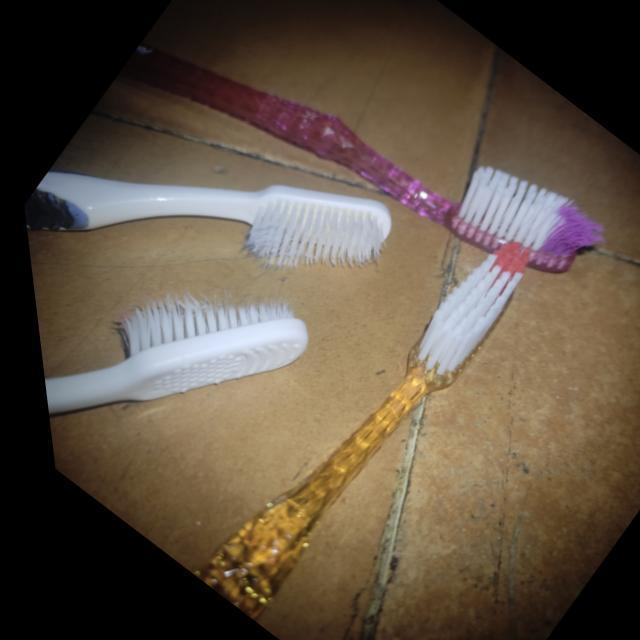toothbrush: (169, 226, 539, 625), (104, 36, 600, 287), (33, 274, 315, 434), (19, 168, 401, 276)
